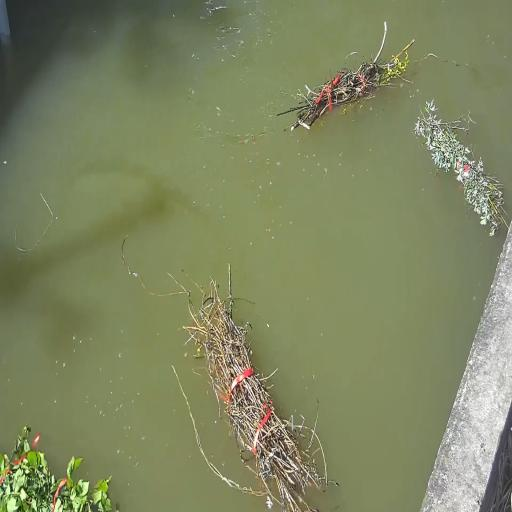twig: (184, 265, 329, 512), (277, 22, 414, 129), (414, 100, 506, 236), (0, 425, 110, 512), (38, 452, 47, 473)
